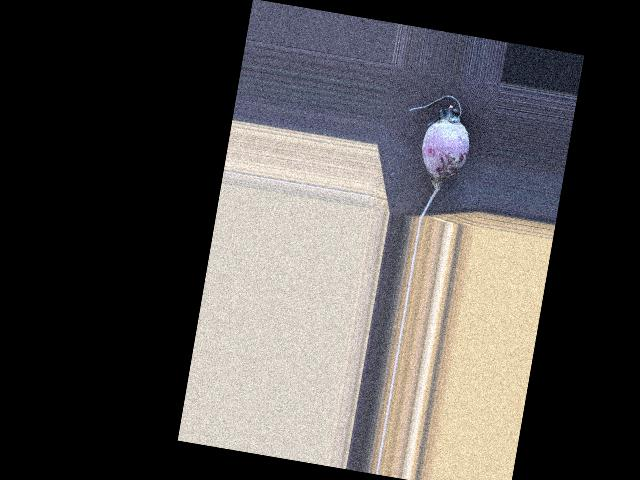beet: (391, 89, 477, 225)
